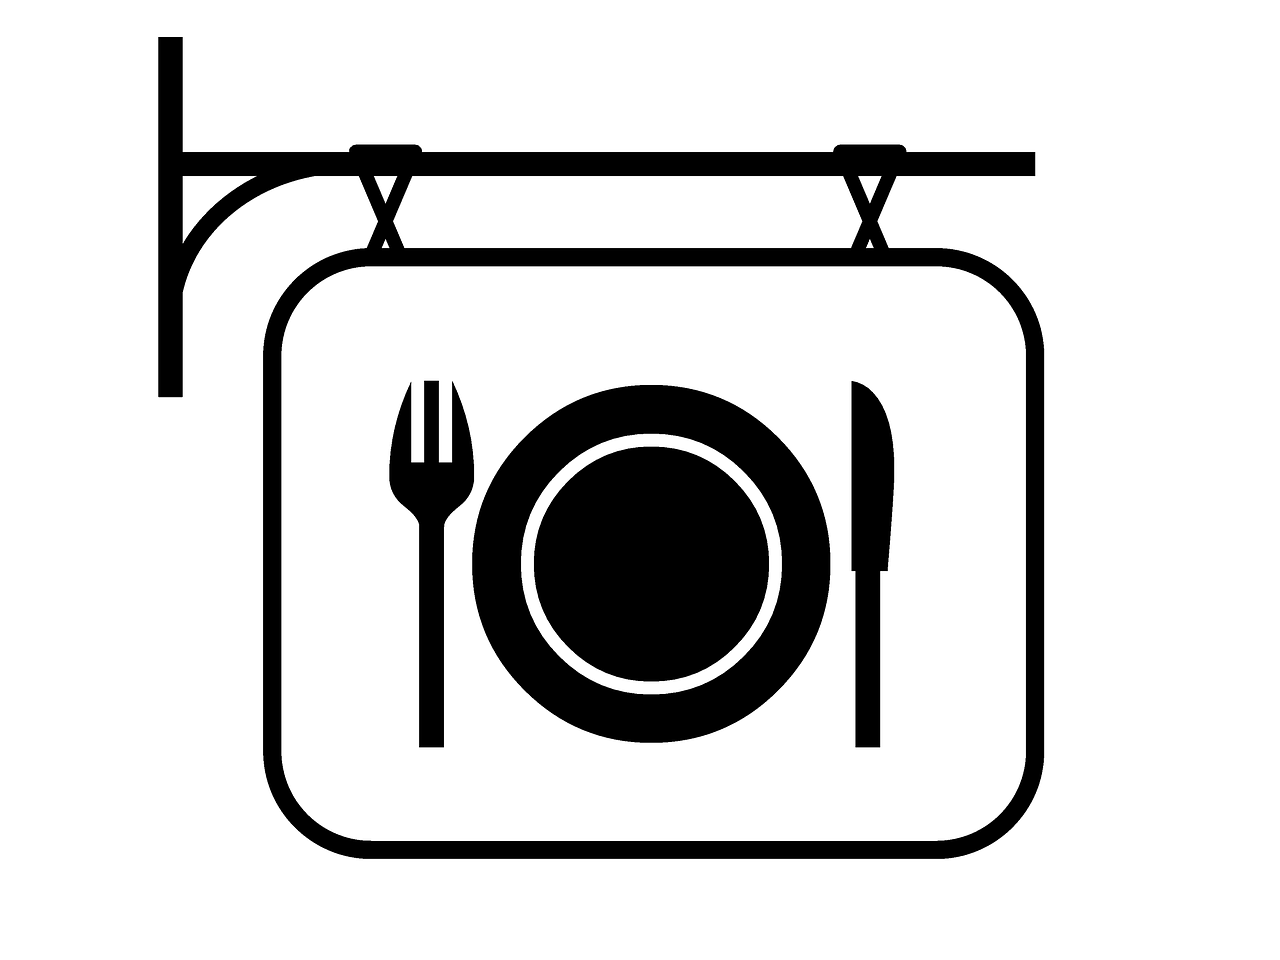knife: (833, 374, 909, 761)
